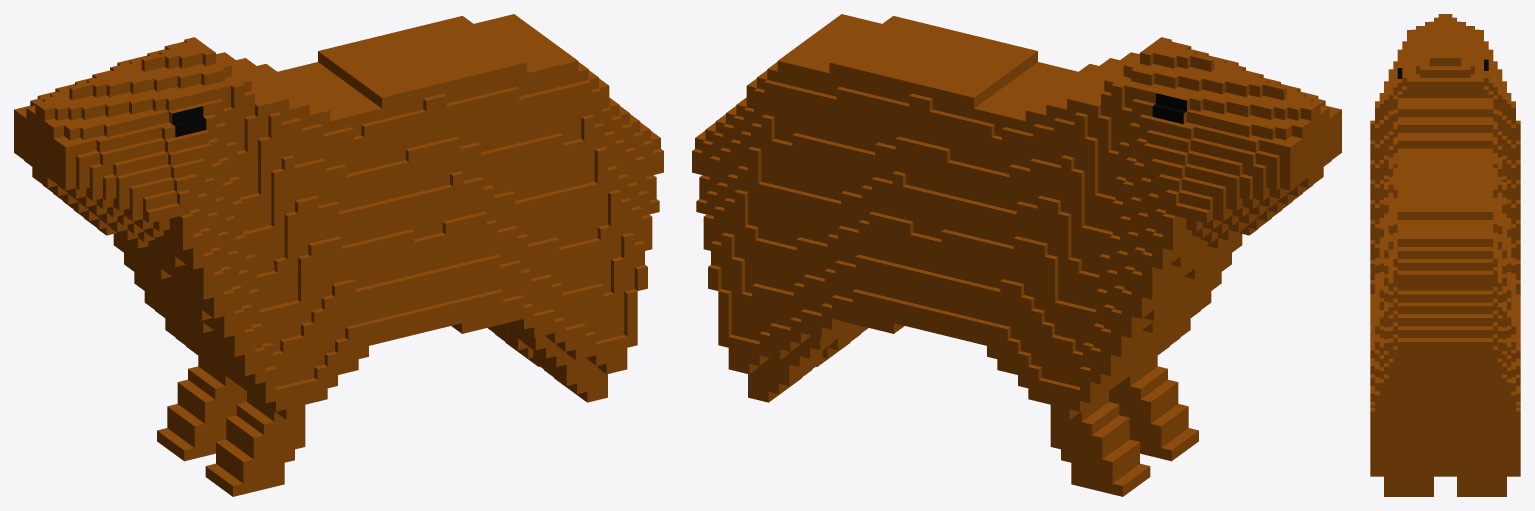
Rendered from capybara.glb.
The picture shows the model from 3 angles, left to right: view 1: azimuth 30°, elevation 25°; view 2: azimuth 150°, elevation 25°; view 3: azimuth 270°, elevation 25°; orthographic projection. The views are drawn at different scales.
Size of the model in its own units: 3.41 by 2.33 by 1.01.
